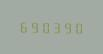nine: (28, 19, 38, 33), (62, 20, 72, 34)
six: (17, 19, 27, 33)
three: (51, 19, 61, 34)
zero: (40, 19, 50, 33), (73, 20, 83, 34)
